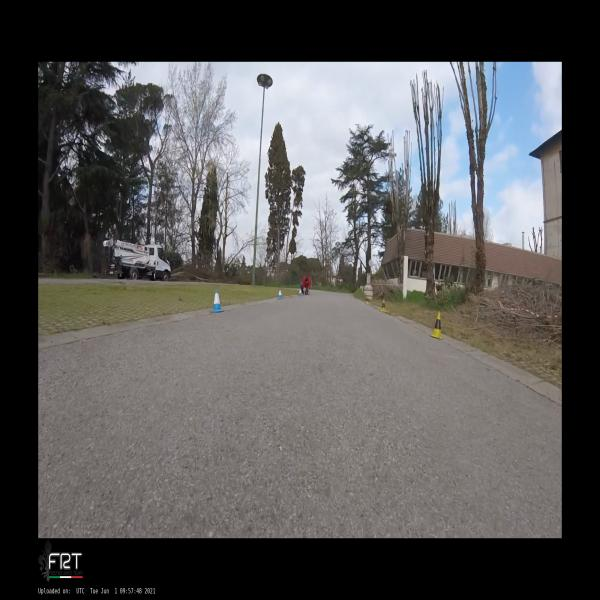blue_cone: (210, 287, 225, 312), (277, 288, 283, 299), (299, 289, 302, 295)
yellow_cone: (430, 311, 444, 339), (380, 299, 386, 312), (366, 298, 369, 304)
